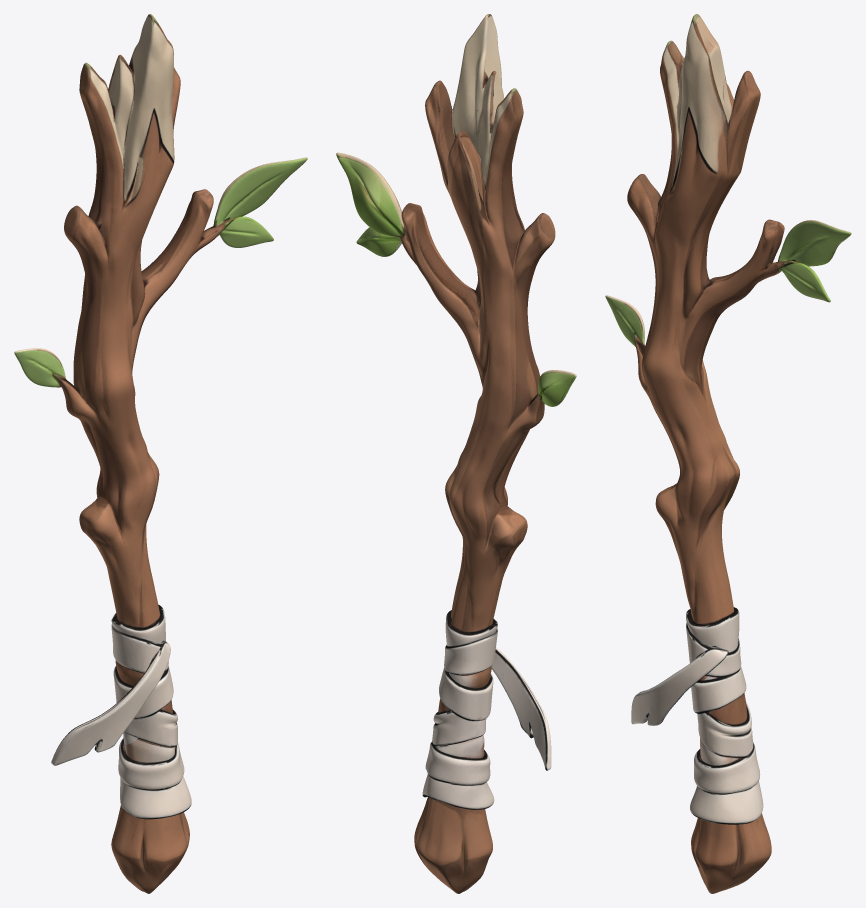
Rendered from sproutwood_staff.glb.
3 views of the same model, side by side, from view 1: azimuth 30°, elevation 25°; view 2: azimuth 150°, elevation 25°; view 3: azimuth 330°, elevation 25° (orthographic). The views are drawn at different scales.
Size of the model in its own units: 0.6034 by 1.9 by 0.1761.
Materials: 1 (1 with a texture image).
